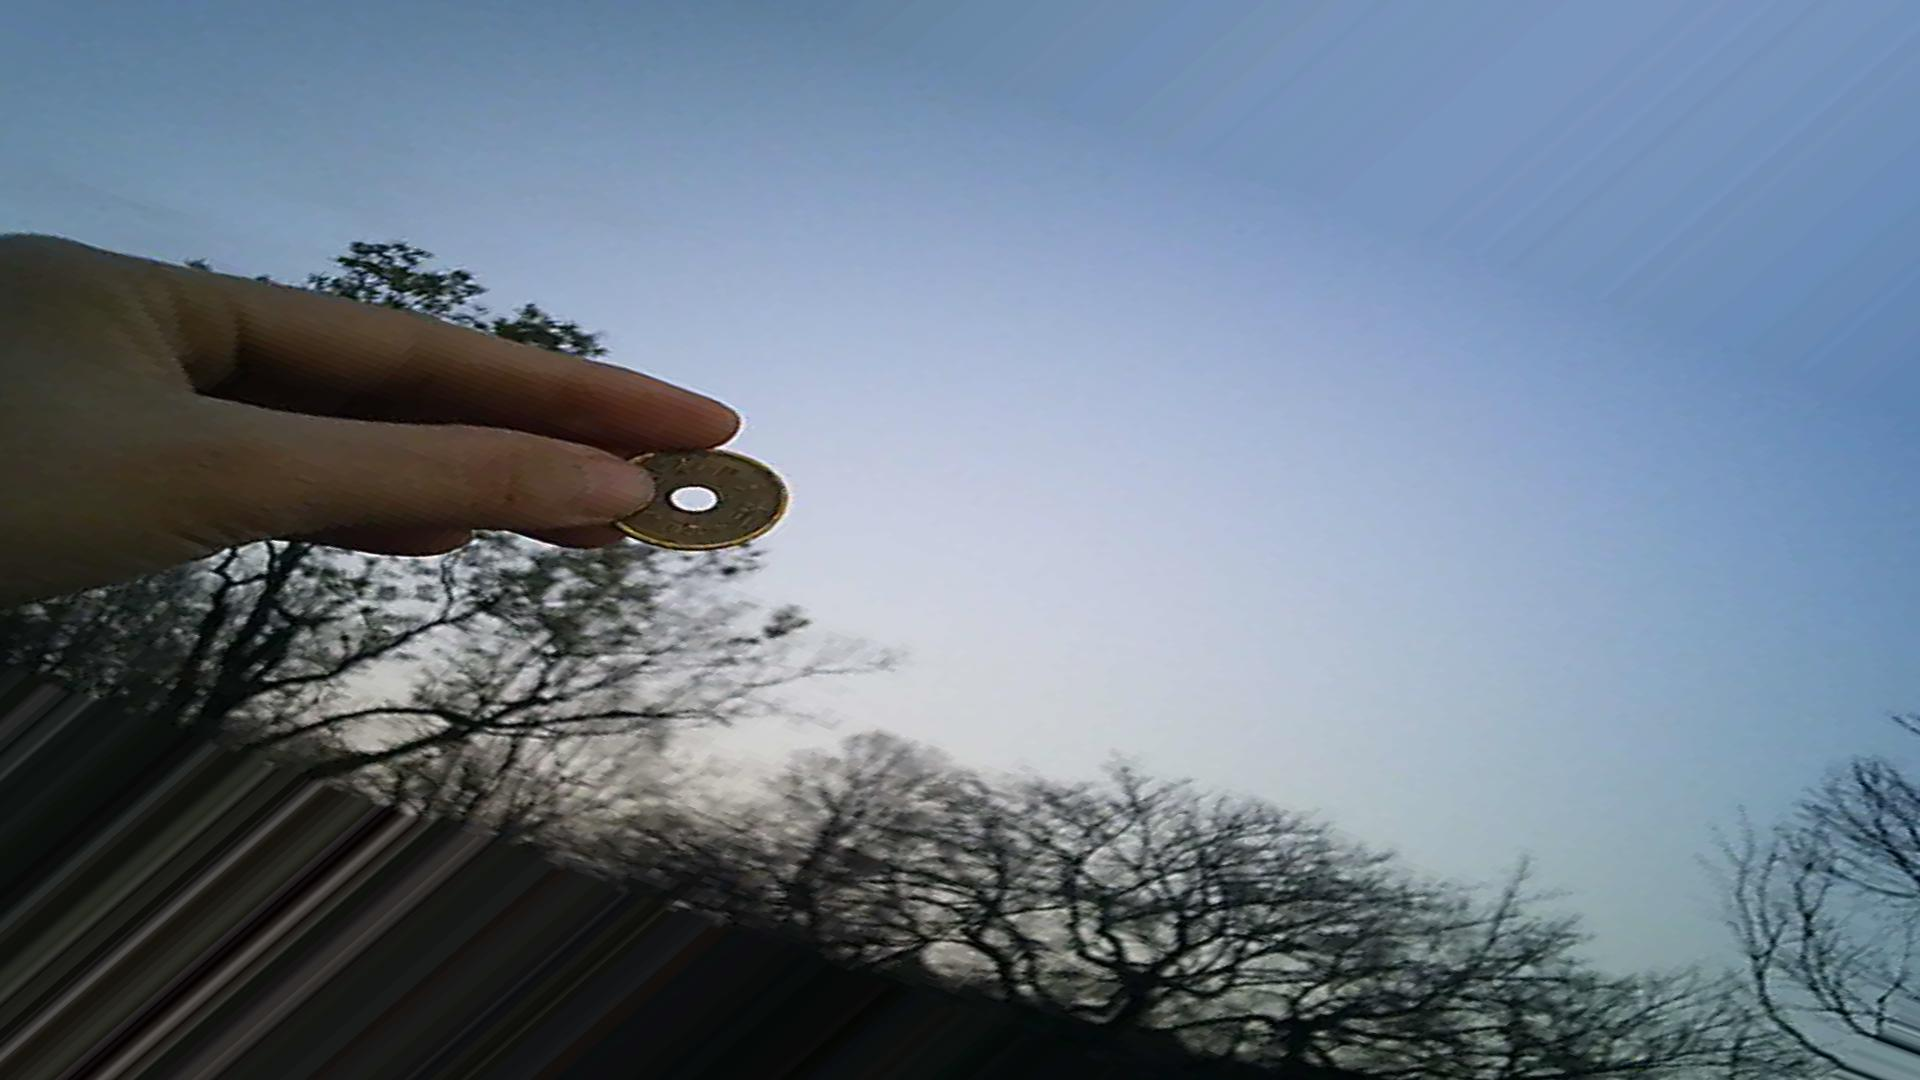5 Yen: (603, 425, 789, 559)
